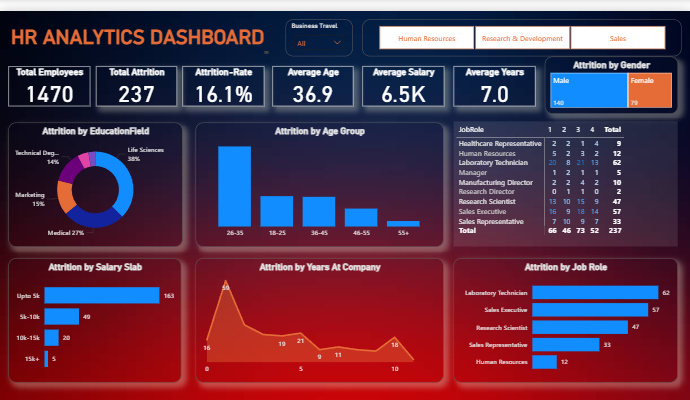

What the dashboard file says about the page in this screenshot:
{"tool":"powerbi","page":{"name":"Page 1","canvas":[1280,720],"ordinal":0},"visuals":[{"type":"card","title":"Total Employees","fields":{"Values":["CountNonNull(HR_Analytics.EmpID)"]},"box":[16.7,101.9,151.9,74.1],"z":0},{"type":"card","title":"Total Attrition","fields":{"Values":["Sum(HR_Analytics.Attrition-Count)"]},"box":[177.8,101.9,150,74.1],"z":1000},{"type":"card","title":"Attrition-Rate","fields":{"Values":["HR_Analytics.Attrition-Rate"]},"box":[337,101.9,151.9,74.1],"z":2000},{"type":"card","title":"Average Age","fields":{"Values":["Avg(HR_Analytics.Age)"]},"box":[503.7,101.9,150,74.1],"z":3000},{"type":"card","title":"Average Salary","fields":{"Values":["Avg(HR_Analytics.MonthlyIncome)"]},"box":[670.4,101.9,151.9,74.1],"z":4000},{"type":"card","title":"Average Years","fields":{"Values":["Avg(HR_Analytics.YearsAtCompany)"]},"box":[840.7,101.9,151.9,74.1],"z":5000},{"type":"donutChart","title":"Attrition by EducationField","fields":{"Category":["HR_Analytics.EducationField"],"Y":["Sum(HR_Analytics.Attrition-Count)"]},"box":[14.8,205.6,322.2,229.6],"z":6000},{"type":"clusteredColumnChart","title":"Attrition by Age Group","fields":{"Category":["HR_Analytics.AgeGroup"],"Y":["Sum(HR_Analytics.Attrition-Count)"]},"box":[363,205.6,459.3,229.6],"z":7000},{"type":"pivotTable","fields":{"Rows":["HR_Analytics.JobRole"],"Columns":["HR_Analytics.JobSatisfaction"],"Values":["Sum(HR_Analytics.Attrition-Count)"]},"box":[840.7,203.7,414.8,231.5],"z":8000},{"type":"barChart","title":"Attrition by Salary Slab","fields":{"Category":["HR_Analytics.SalarySlab"],"Y":["Sum(HR_Analytics.Attrition-Count)"]},"box":[16.7,457.4,320.4,229.6],"z":9000},{"type":"barChart","title":"Attrition by Job Role","fields":{"Category":["HR_Analytics.JobRole"],"Y":["Sum(HR_Analytics.Attrition-Count)"]},"box":[840.7,457.4,414.8,229.6],"z":10000},{"type":"stackedAreaChart","title":"Attrition by Years At Company","fields":{"Category":["HR_Analytics.YearsAtCompany"],"Y":["Sum(HR_Analytics.Attrition-Count)"]},"box":[363,457.4,459.3,229.6],"z":11000},{"type":"treemap","title":"Attrition by Gender","fields":{"Group":["HR_Analytics.Gender"],"Values":["Sum(HR_Analytics.Attrition-Count)"]},"box":[1009.3,83.3,246.3,105.6],"z":12000},{"type":"slicer","fields":{"Values":["HR_Analytics.Department"]},"box":[670.4,14.8,590.7,68.5],"z":13000},{"type":"textbox","title":"HR ANALYTICS  DASHBOARD","box":[16.7,25.9,487,57.4],"z":14000},{"type":"slicer","title":"Business Travel","fields":{"Values":["HR_Analytics.BusinessTravel"]},"box":[529.6,14.8,124.1,68.5],"z":15000}]}

Visuals, with their boxes in screenshot pixels (x1, y1, x2, y2), scaled from the page's 1280x720 canvas onto the 690x400 screenshot:
"Total Employees" card: 9/57/91/98
"Total Attrition" card: 96/57/177/98
"Attrition-Rate" card: 182/57/264/98
"Average Age" card: 272/57/352/98
"Average Salary" card: 361/57/443/98
"Average Years" card: 453/57/535/98
"Attrition by EducationField" donutChart: 8/114/182/242
"Attrition by Age Group" clusteredColumnChart: 196/114/443/242
pivotTable - HR_Analytics.JobRole x HR_Analytics.JobSatisfaction: 453/113/677/242
"Attrition by Salary Slab" barChart: 9/254/182/382
"Attrition by Job Role" barChart: 453/254/677/382
"Attrition by Years At Company" stackedAreaChart: 196/254/443/382
"Attrition by Gender" treemap: 544/46/677/105
slicer - HR_Analytics.Department: 361/8/680/46
"HR ANALYTICS  DASHBOARD" textbox: 9/14/272/46
"Business Travel" slicer: 285/8/352/46
